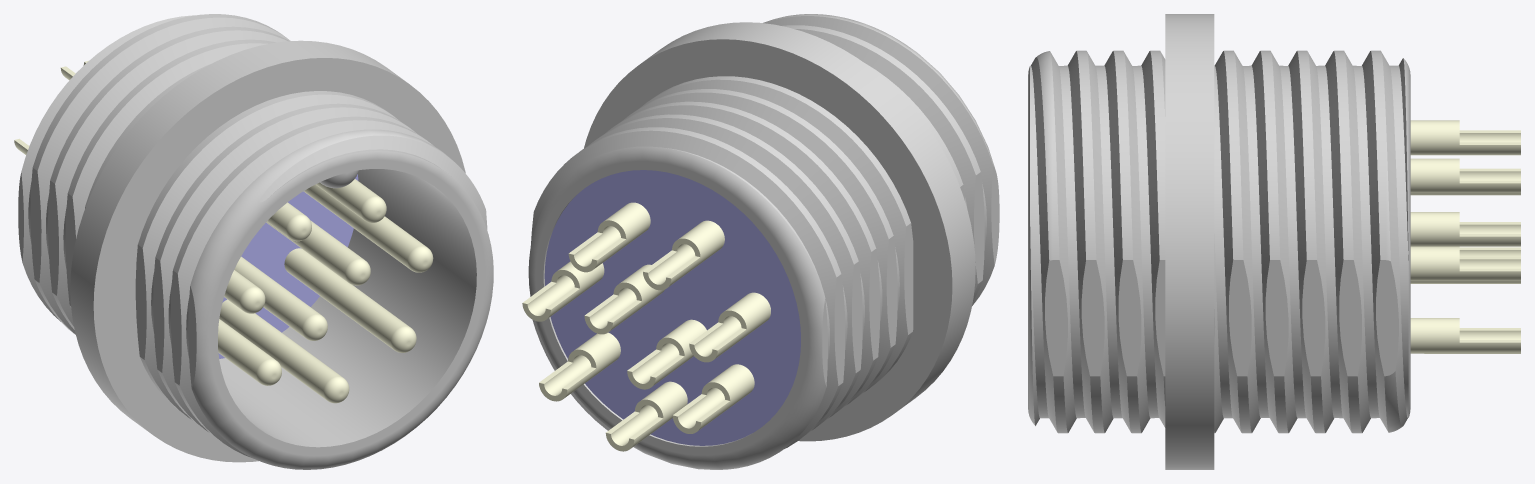
The picture shows the model from 3 angles, left to right: view 1: azimuth 30°, elevation 25°; view 2: azimuth 150°, elevation 25°; view 3: azimuth 270°, elevation 25°; orthographic projection. The views are drawn at different scales.
Visible parts, largest first — view 1: GX16M-9B; view 2: GX16M-9B; view 3: GX16M-9B.
Part boxes in pixels (x1,y1,x2,y2): GX16M-9B: (14,14,493,469); GX16M-9B: (522,14,999,469); GX16M-9B: (1028,14,1520,469).
Bounding box in the file's own units: 0.0186 × 0.0186 × 0.0201.
